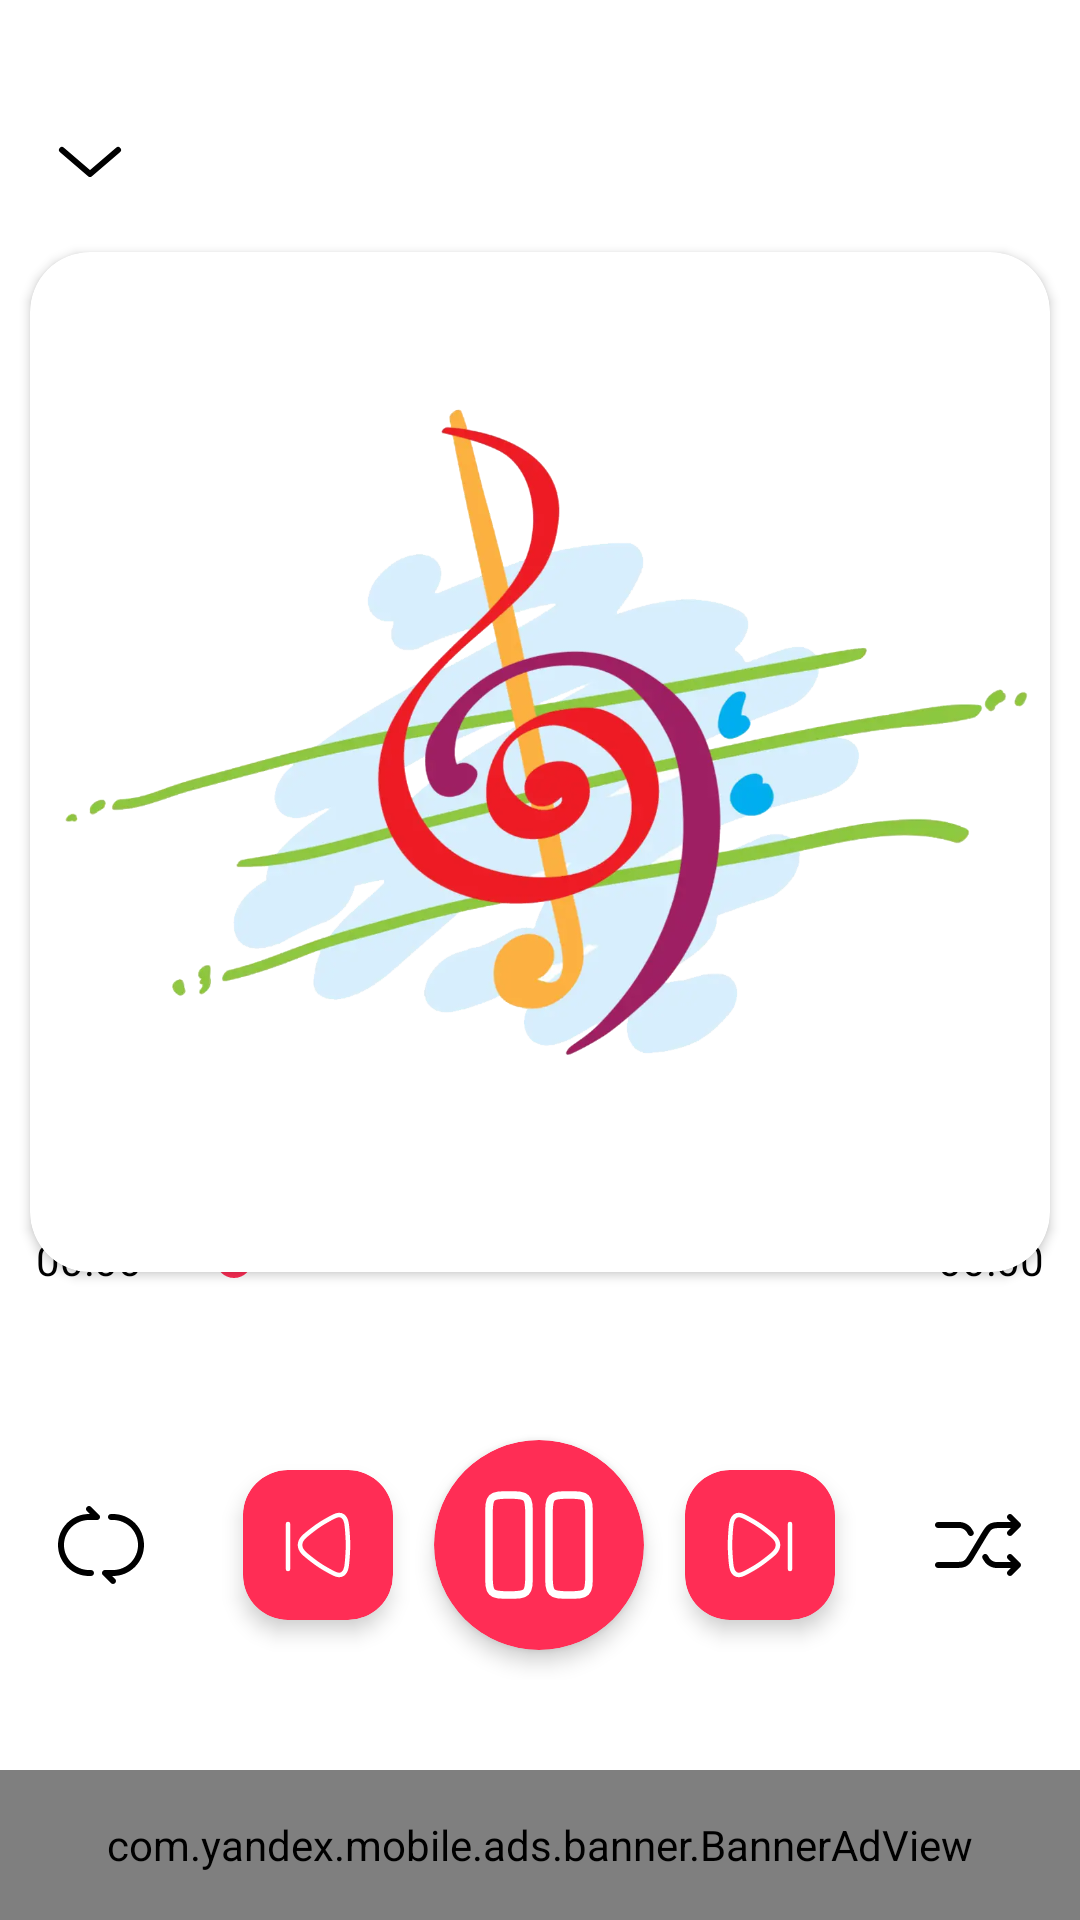

Locate icon controls on the screen. Image size 1080 x 1920, boxes as (x1, y1, x2, y2).
arrow down: (59, 146, 121, 177)
pause: (434, 1440, 644, 1650)
repeat: (58, 1506, 144, 1584)
shuffle: (935, 1514, 1021, 1576)
skip next: (685, 1470, 835, 1620)
skip previous: (243, 1470, 393, 1620)
